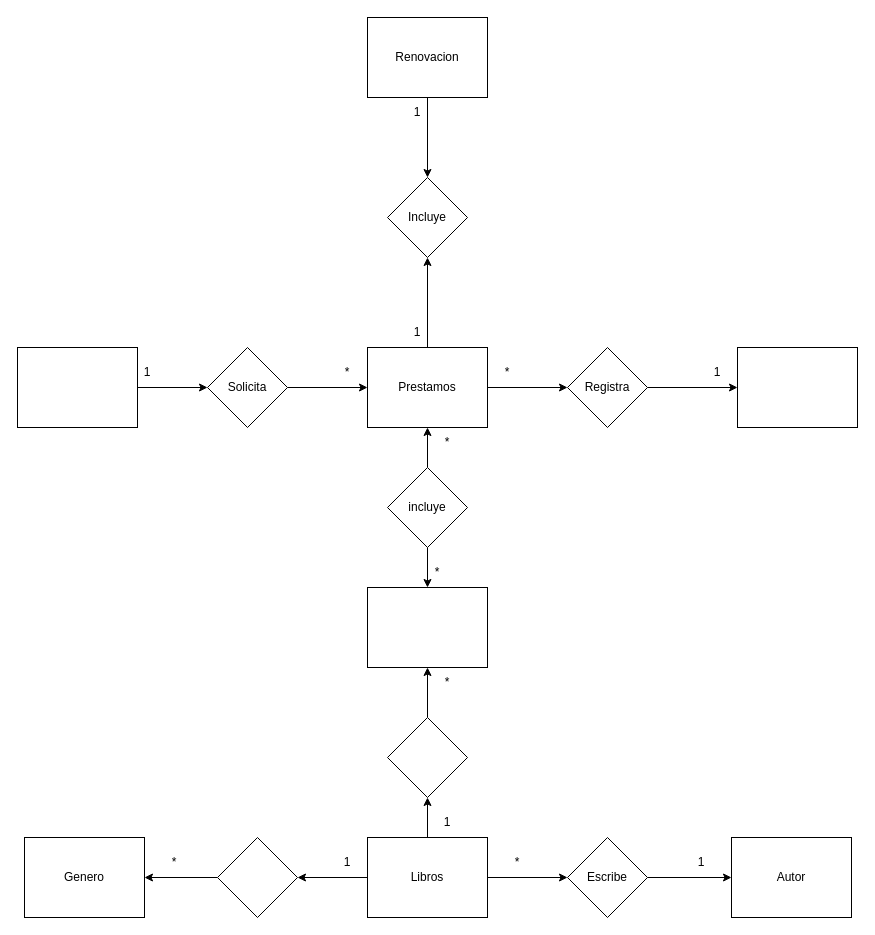
Some shapes in this 875 by 935 pixel diagram are drawn without their labels. Each missing label, with the box of its shape:
Ejemplares: (366, 586, 488, 668)
Persona: (16, 346, 138, 428)
Posee: (216, 836, 298, 918)
Tiene: (386, 716, 468, 798)
Usuario: (736, 346, 858, 428)
